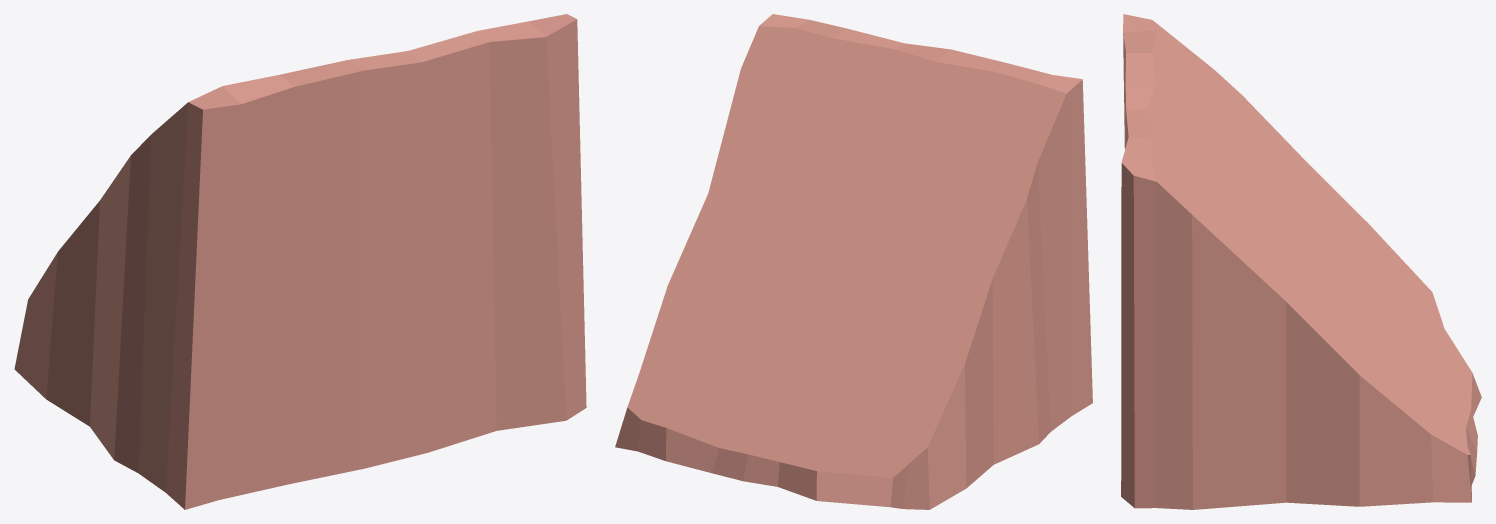
Rendered from SuperGrid_Stairs4.fbx.
The picture shows the model from 3 angles, left to right: view 1: azimuth 30°, elevation 25°; view 2: azimuth 150°, elevation 25°; view 3: azimuth 270°, elevation 25°; orthographic projection. The views are drawn at different scales.
Parts seen in each view (by area): view 1: SuperGrid_Stairs4; view 2: SuperGrid_Stairs4; view 3: SuperGrid_Stairs4.
Boxes of the visible parts, <box> form: SuperGrid_Stairs4: <box>14,14,586,509</box>; SuperGrid_Stairs4: <box>615,14,1092,509</box>; SuperGrid_Stairs4: <box>1121,14,1481,509</box>.
Bounding box in the file's own units: 108 × 101 × 98.28.
